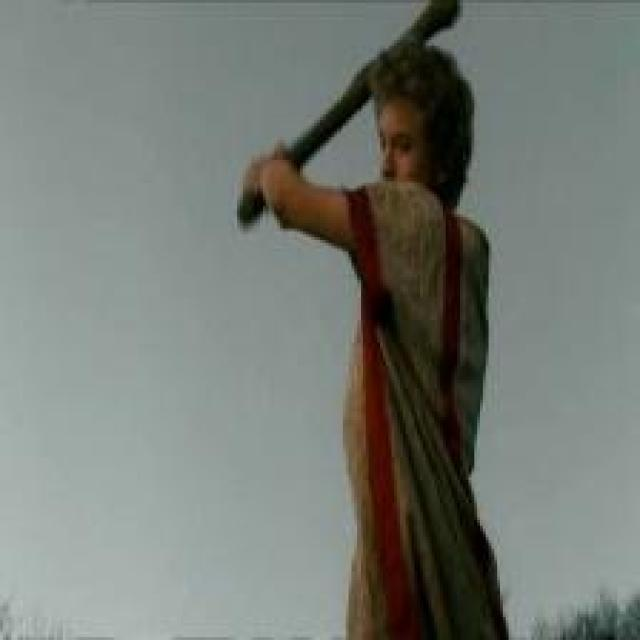fight: (177, 0, 603, 640)
